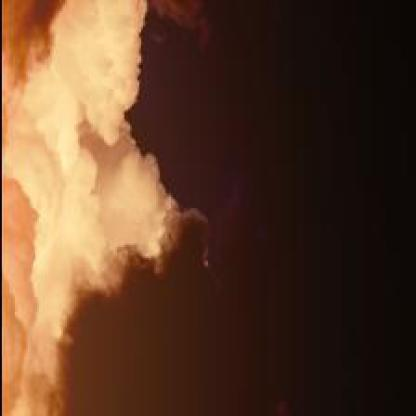Smoke: (0, 0, 198, 416)
